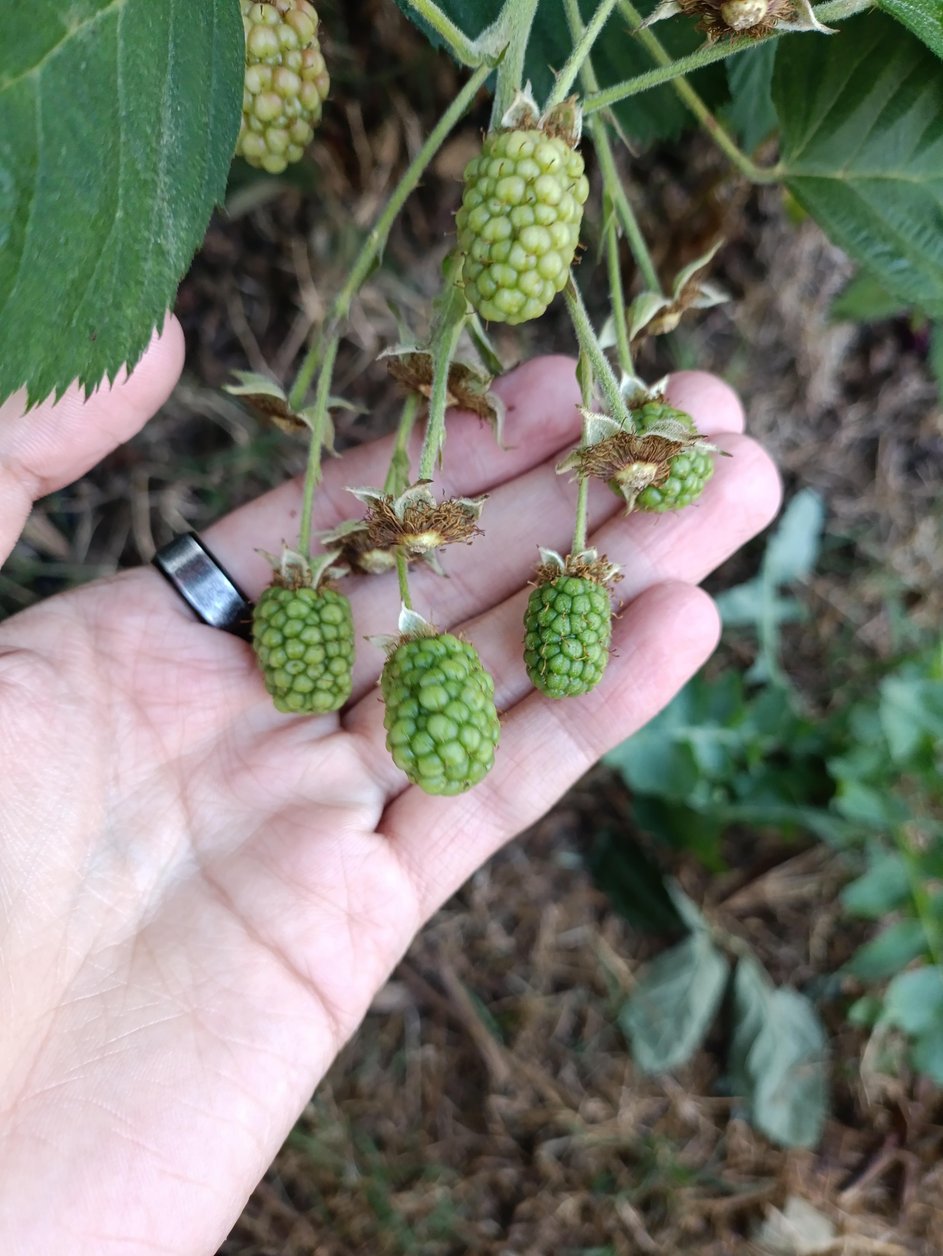verde: (456, 106, 588, 324), (381, 634, 499, 796), (253, 551, 354, 713), (524, 569, 611, 698)
